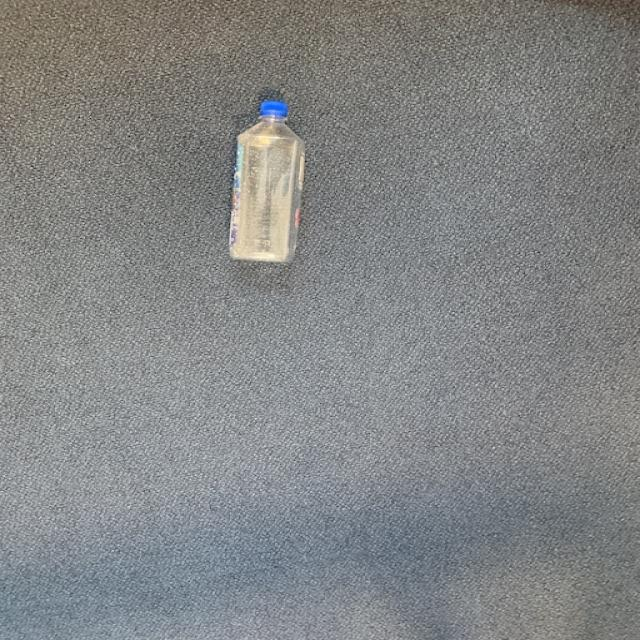Waste: (229, 100, 305, 262)
